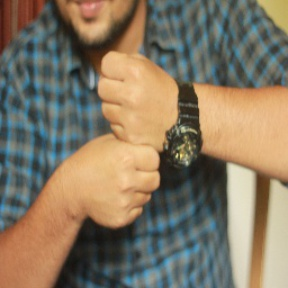G: (77, 50, 176, 232)
